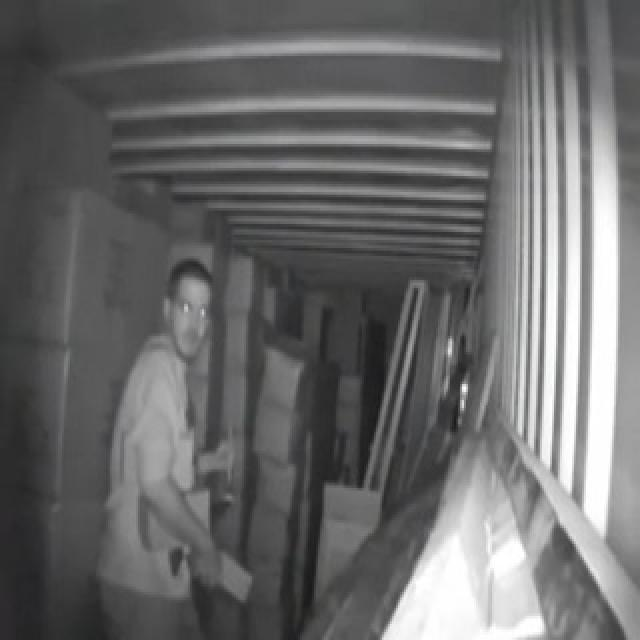thief: (98, 248, 248, 640)
